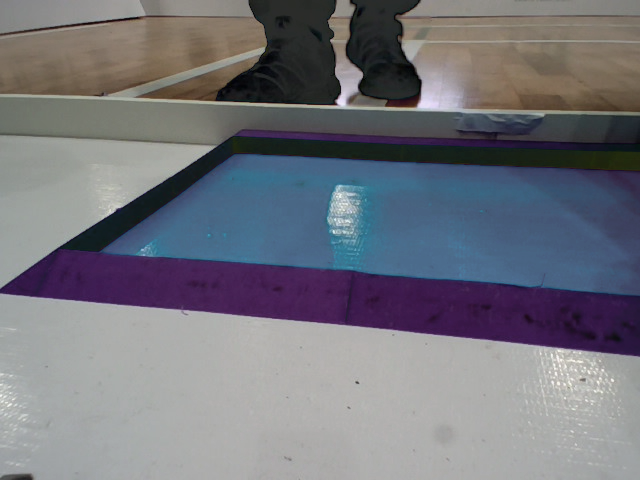kuang: (6, 122, 640, 358)
